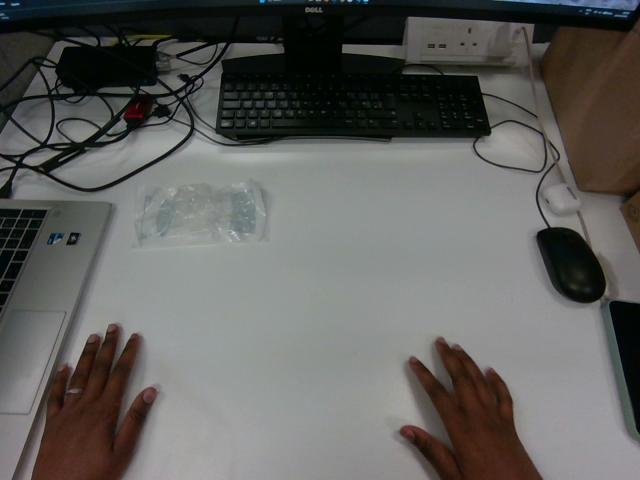gallipot: (135, 180, 266, 246)
